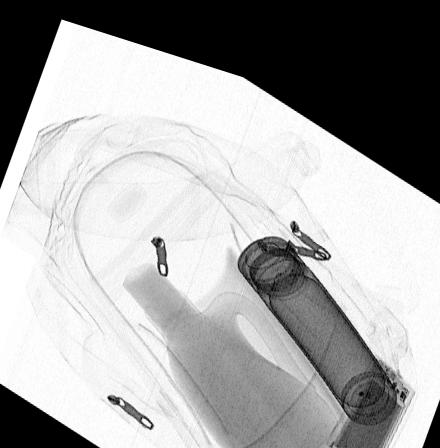Powerbank: (322, 329, 417, 448)
